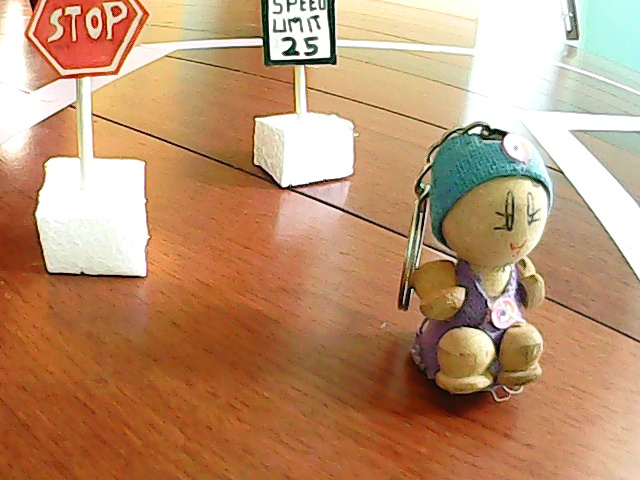pedestrain: (405, 129, 564, 406)
speed_25: (257, 1, 368, 190)
stop: (15, 1, 160, 279)
